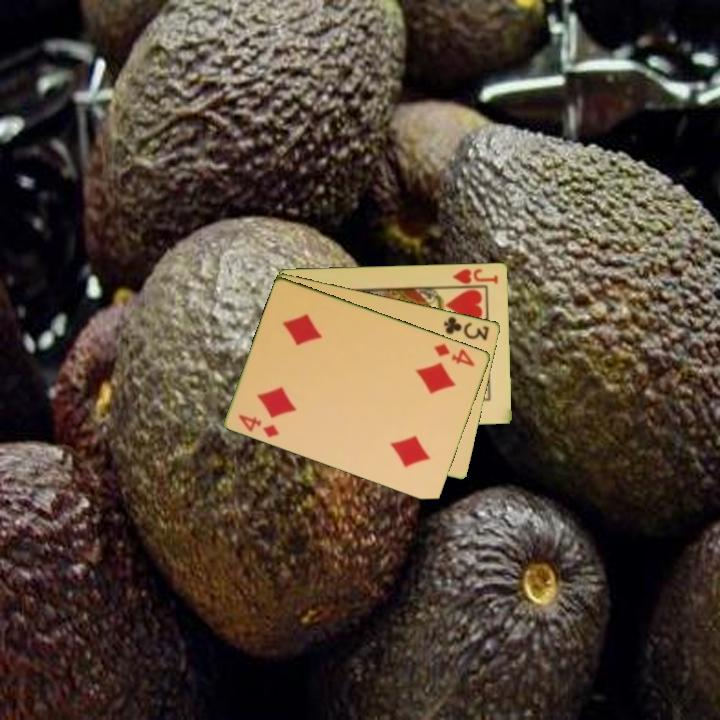3c: (440, 313, 492, 343)
4d: (235, 410, 282, 440), (431, 340, 478, 369)
Jh: (446, 265, 501, 290)
